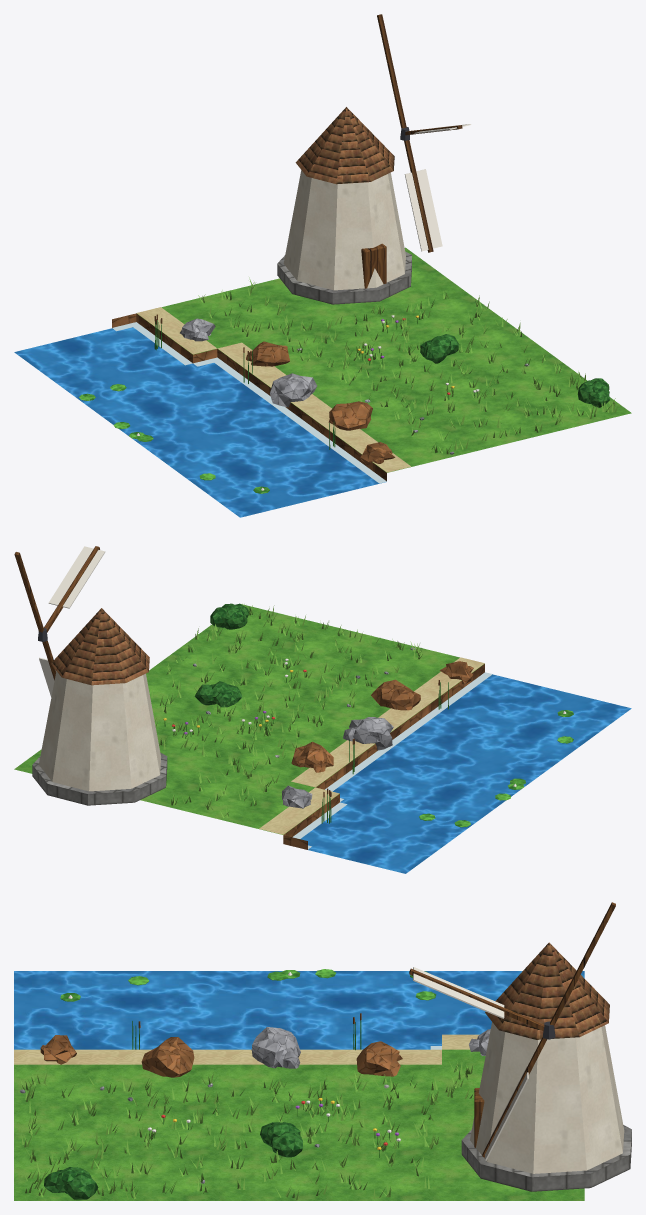
File: chunk_4_10.glb
3 views of the same model, one above another, from view 1: azimuth 30°, elevation 25°; view 2: azimuth 150°, elevation 25°; view 3: azimuth 270°, elevation 25° (orthographic). The views are drawn at different scales.
Parts seen in each view (by area): view 1: chunk_4_10; view 2: chunk_4_10; view 3: chunk_4_10.
Part boxes in pixels (left/top/right/bottom): chunk_4_10: left=14, top=14, right=631, bottom=517; chunk_4_10: left=14, top=546, right=631, bottom=873; chunk_4_10: left=14, top=902, right=631, bottom=1200.
Size of the model in its own units: 16.16 by 9.4 by 17.32.
24 materials, 16 textured.
